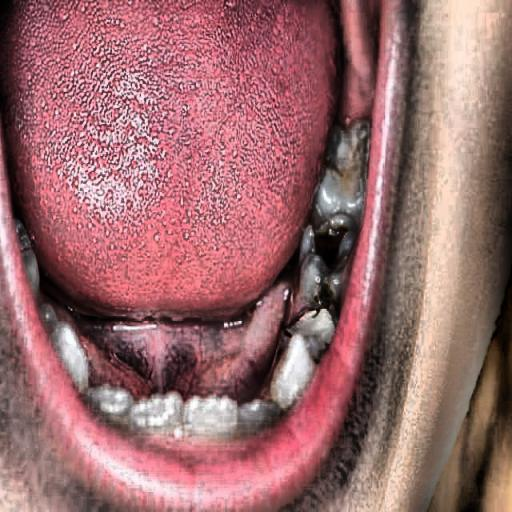Caries: (268, 187, 385, 342)
